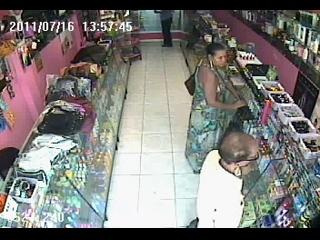Normal: (185, 42, 248, 174), (196, 131, 262, 228), (184, 58, 204, 96), (157, 10, 174, 48), (121, 45, 142, 65)
